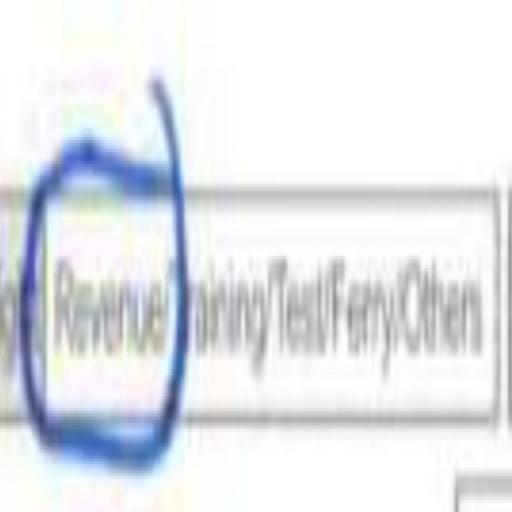check: (37, 113, 165, 512)
